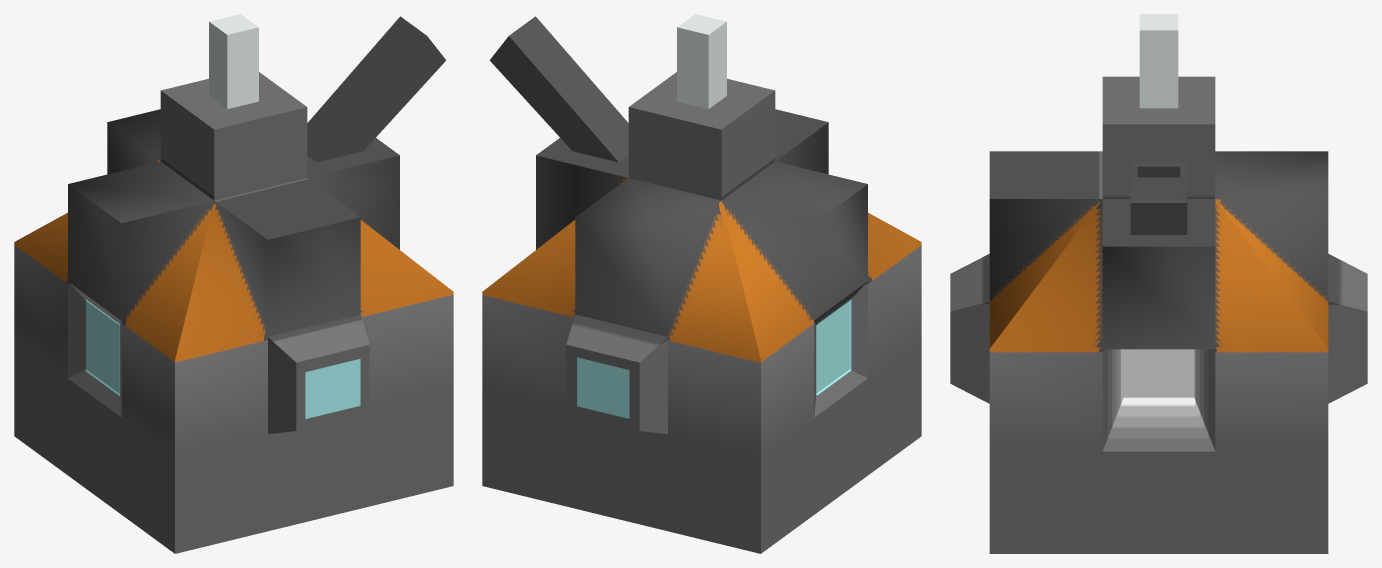
File: TowerTop.fbx
The picture shows the model from 3 angles, left to right: view 1: azimuth 30°, elevation 25°; view 2: azimuth 150°, elevation 25°; view 3: azimuth 270°, elevation 25°; orthographic projection. The views are drawn at different scales.
Visible parts, largest first — view 1: pCube1; view 2: pCube1; view 3: pCube1.
Boxes of the visible parts, left/top/right/bottom form: pCube1: left=14, top=14, right=453, bottom=553; pCube1: left=482, top=14, right=921, bottom=553; pCube1: left=950, top=14, right=1367, bottom=553.
Bounding box in the file's own units: 7.29 × 8.99 × 7.38.
1 material, 1 textured.
